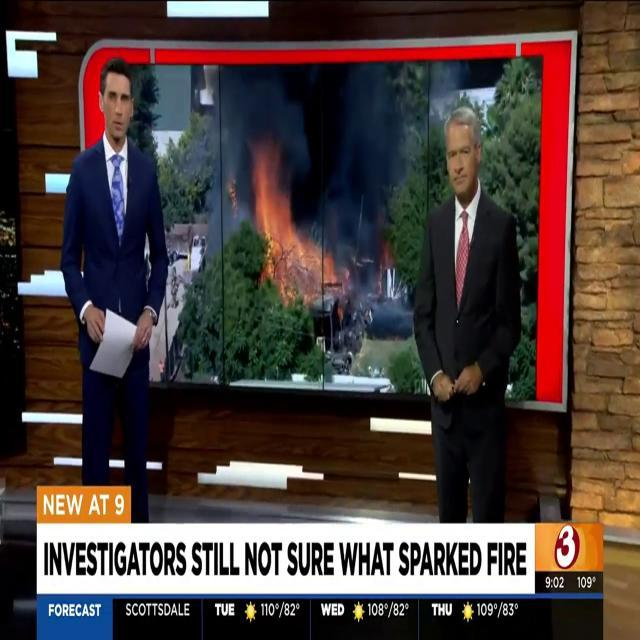Fire: (246, 150, 334, 312), (36, 478, 134, 522)
Smoke: (210, 63, 414, 277)
